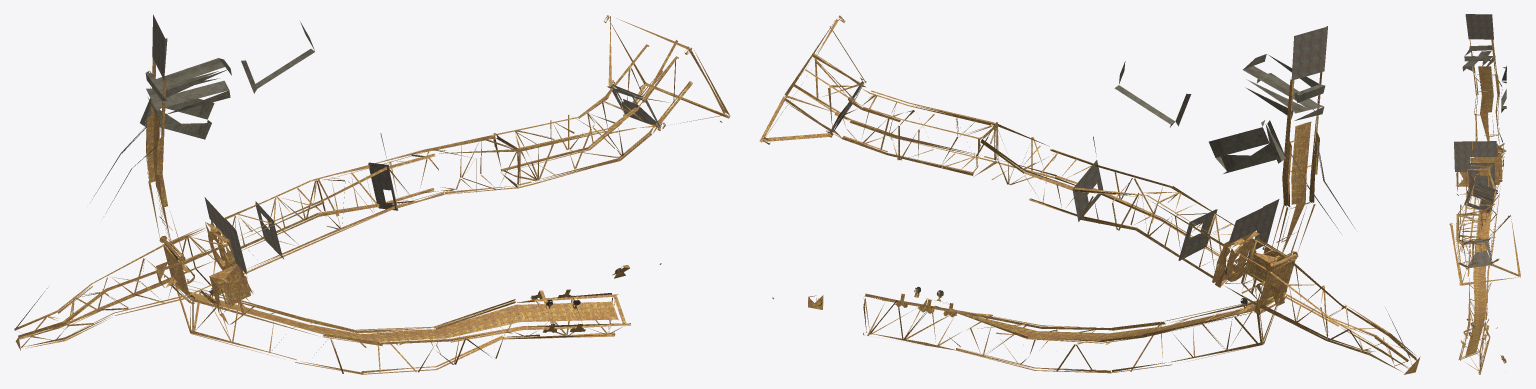
File: kran_destroy_LOD1.obj
3 renders of one model, left to right at view 1: azimuth 30°, elevation 25°; view 2: azimuth 150°, elevation 25°; view 3: azimuth 270°, elevation 25°, orthographic. The views are drawn at different scales.
Visible parts, largest first — view 1: MDL_Box011; view 2: MDL_Box011; view 3: MDL_Box011.
Part boxes in pixels (x1,y1,x2,y2): MDL_Box011: (14,14,730,374); MDL_Box011: (759,15,1420,374); MDL_Box011: (1449,14,1520,374).
Size of the model in its own units: 56.69 by 33.71 by 9.29.
4 materials, 4 textured.
